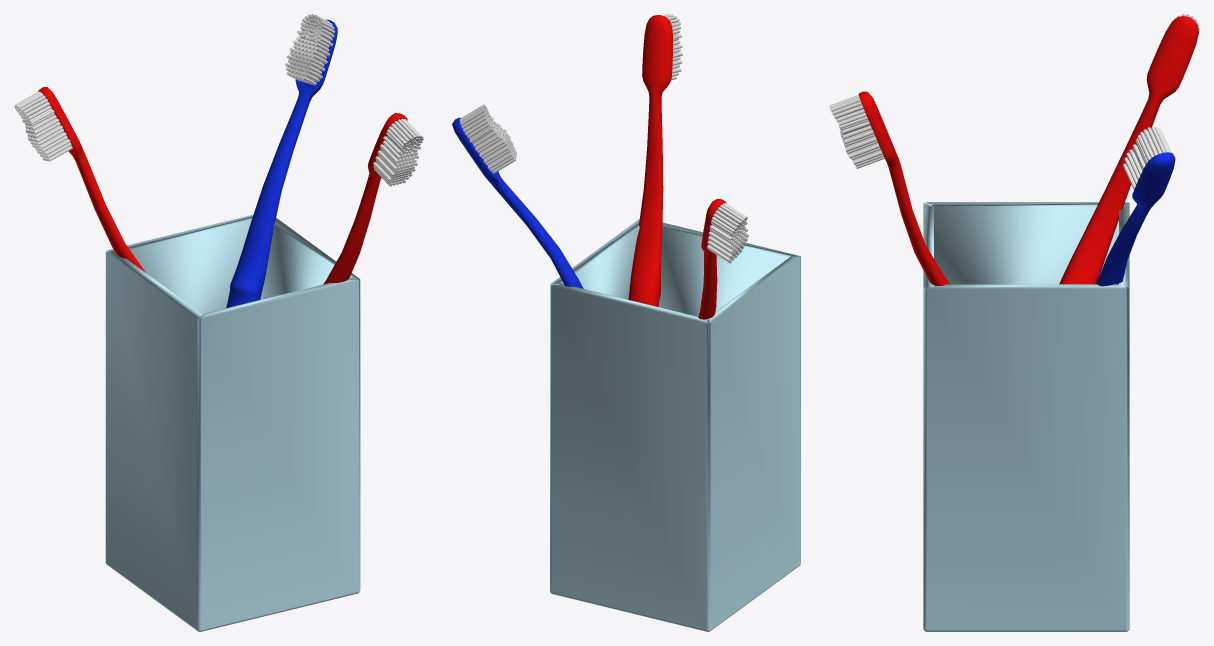
File: porta_spazzolini.fbx
3 views of the same model, side by side, from view 1: azimuth 30°, elevation 25°; view 2: azimuth 150°, elevation 25°; view 3: azimuth 270°, elevation 25° (orthographic). The views are drawn at different scales.
Visible parts, largest first — view 1: porta_spazzolini; view 2: porta_spazzolini; view 3: porta_spazzolini.
Part boxes in pixels (<box>): porta_spazzolini: <box>14,14,423,631</box>; porta_spazzolini: <box>452,14,800,631</box>; porta_spazzolini: <box>829,14,1199,631</box>.
Size of the model in its own units: 14.27 by 22.08 by 13.6.
